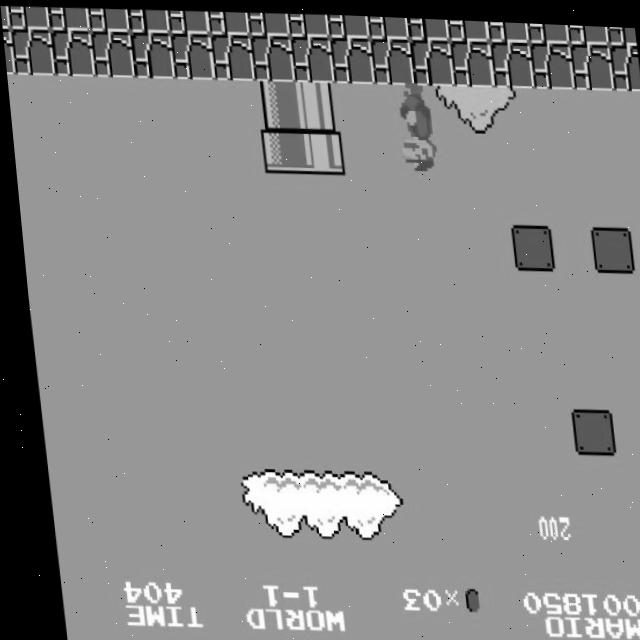0- big_mario: (390, 77, 443, 174)
14- pipe: (293, 78, 338, 127), (253, 78, 298, 126)
15- pipe_head: (257, 123, 303, 172), (297, 124, 343, 172)
17- undestructible_block: (448, 35, 494, 84), (408, 34, 454, 83), (168, 30, 214, 79), (128, 29, 174, 78), (9, 27, 55, 76), (368, 34, 414, 82), (328, 33, 374, 81), (288, 32, 334, 80), (248, 32, 294, 80), (208, 31, 254, 79), (88, 29, 134, 77), (568, 37, 613, 86), (528, 36, 573, 85), (488, 35, 533, 84), (49, 28, 94, 77), (608, 38, 640, 85), (247, 9, 289, 35), (207, 8, 249, 34), (326, 11, 369, 36), (127, 7, 170, 32), (87, 6, 130, 31), (47, 6, 90, 31), (7, 5, 50, 30), (167, 8, 209, 33), (286, 10, 329, 34), (406, 14, 449, 37), (366, 13, 409, 36), (446, 16, 489, 38), (486, 17, 529, 38), (526, 18, 568, 39), (566, 20, 608, 40), (2, 28, 15, 74), (606, 21, 635, 39), (0, 5, 9, 28)
3- empty_block: (585, 220, 631, 269), (562, 403, 608, 451), (505, 219, 551, 267)
